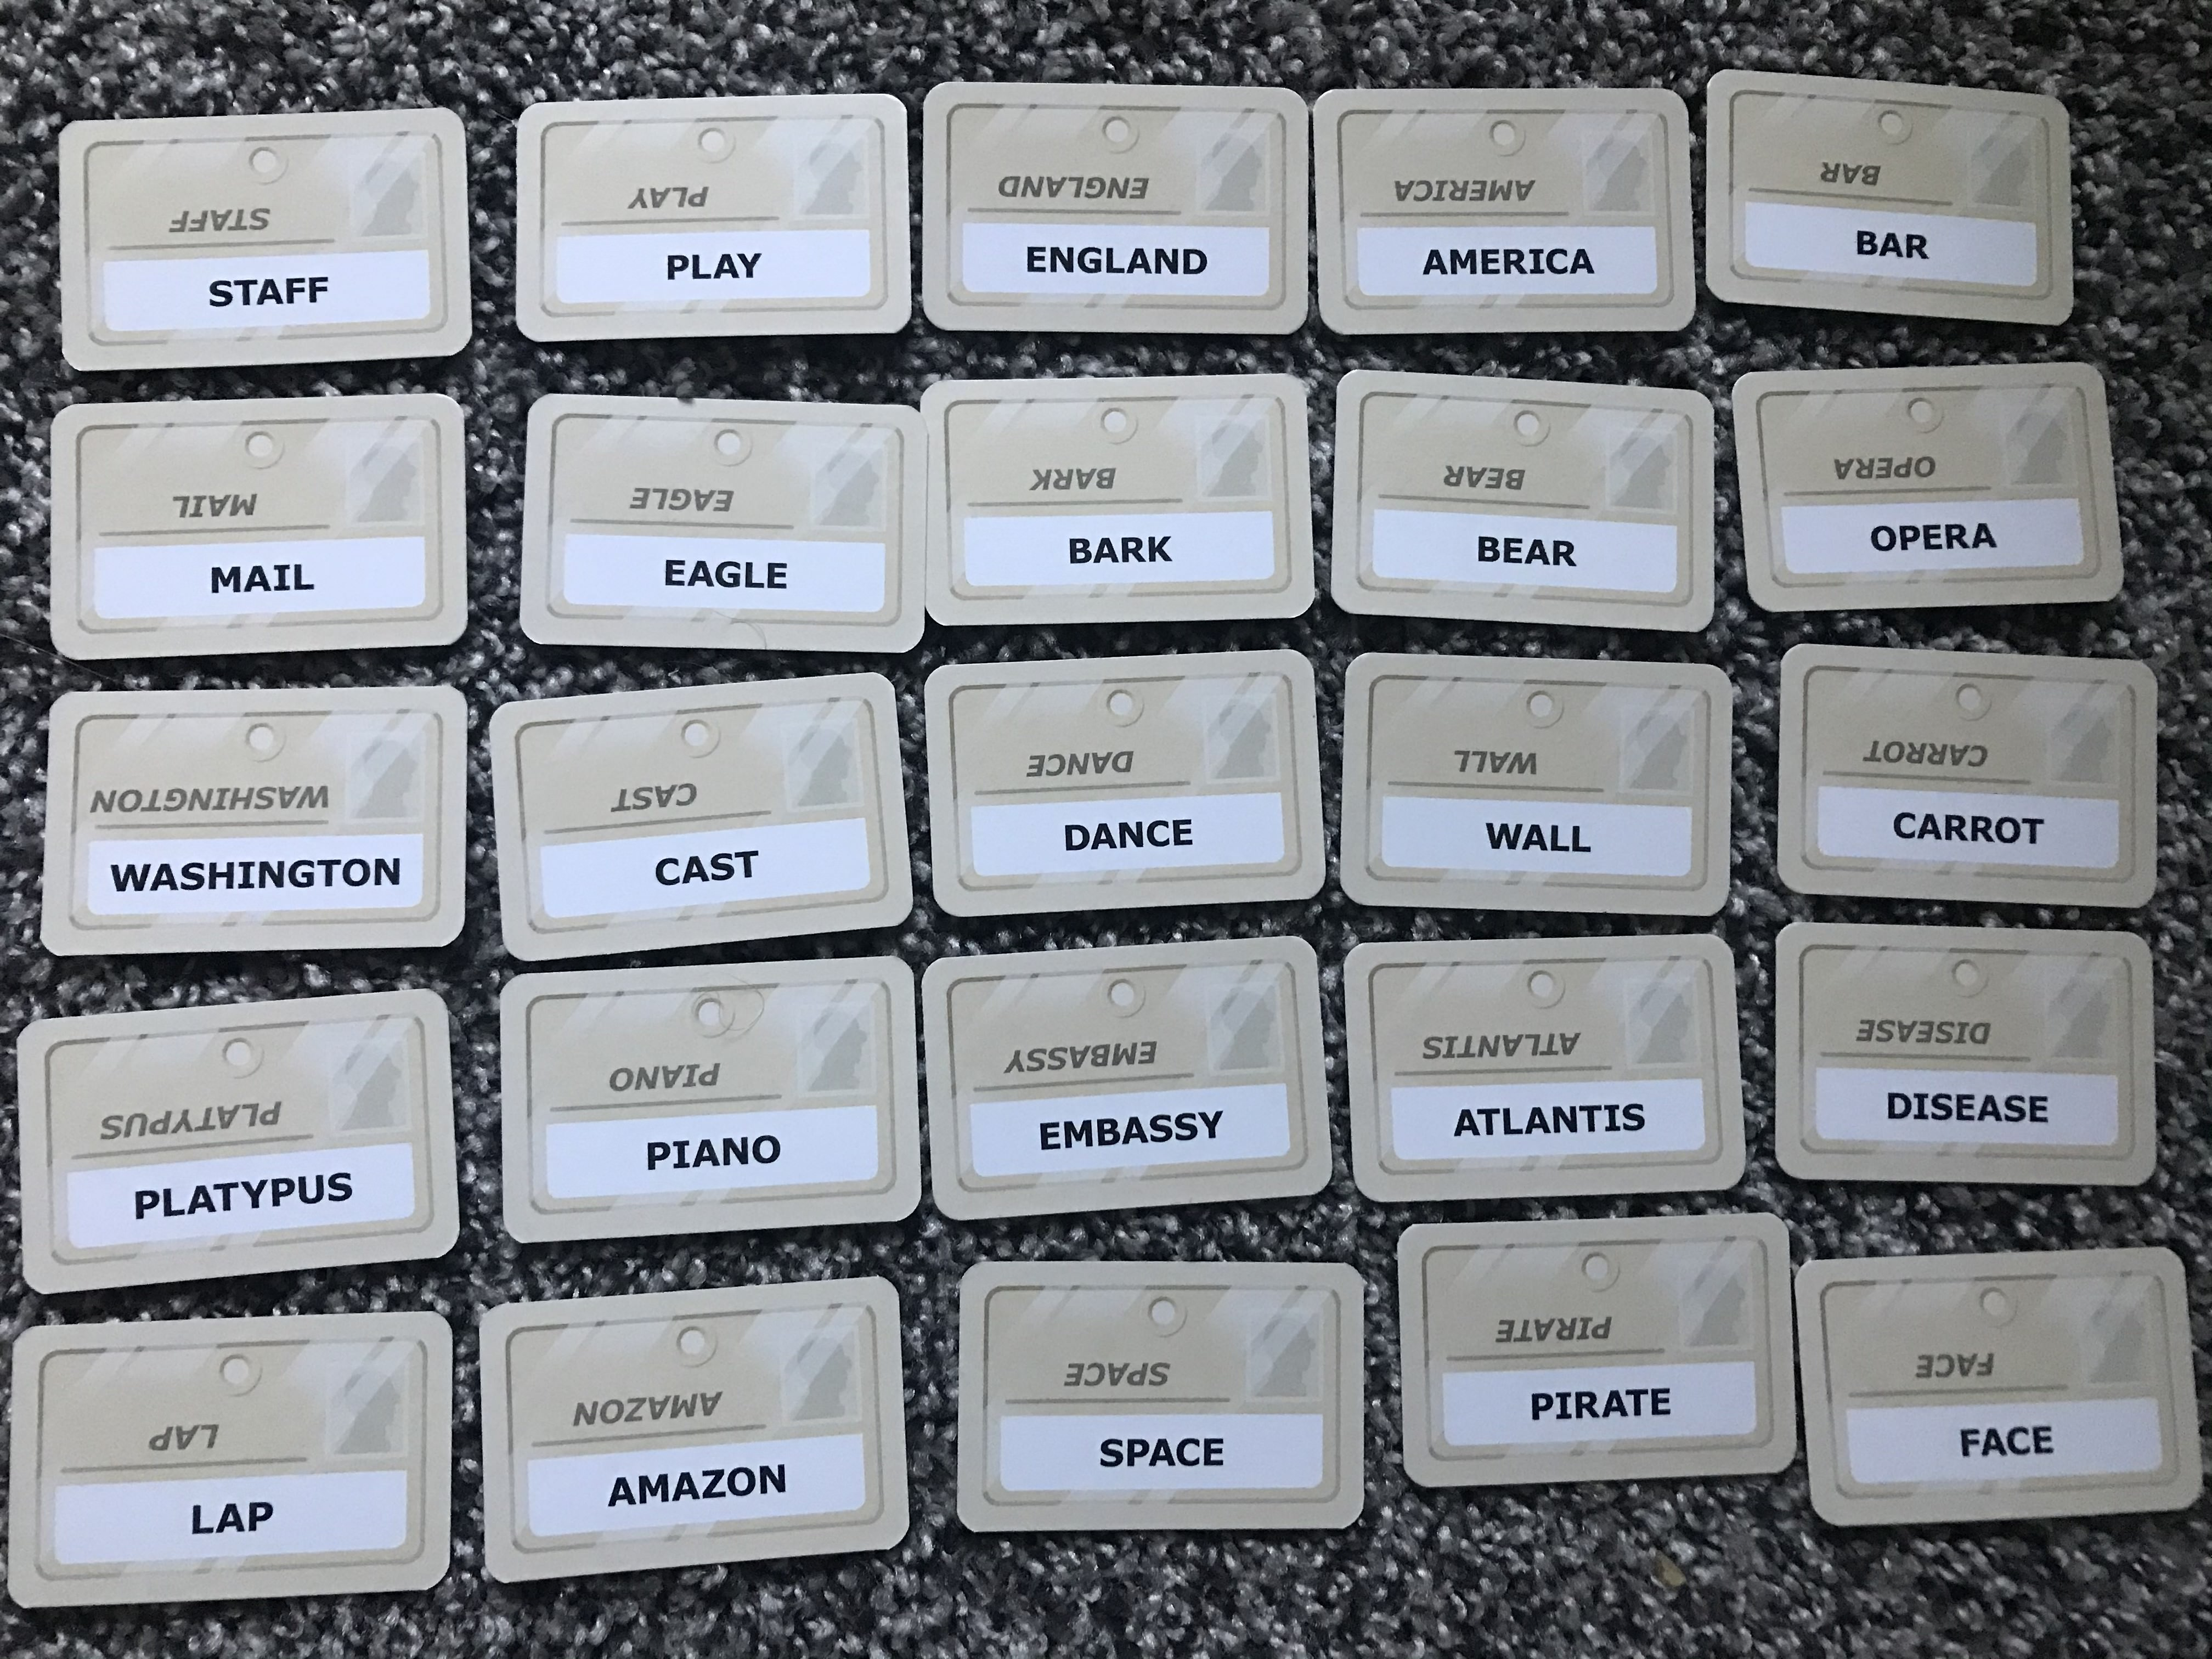A: (185, 1178, 216, 1220), (1453, 1103, 1482, 1147), (1146, 1432, 1176, 1474), (1089, 817, 1118, 857), (606, 1471, 636, 1511), (1916, 807, 1944, 849), (1977, 1089, 2005, 1131), (218, 1499, 246, 1541), (1601, 1382, 1629, 1424), (671, 1467, 700, 1506), (681, 850, 709, 890), (1521, 819, 1548, 859), (691, 1133, 719, 1173), (1979, 1422, 2006, 1462), (1092, 533, 1122, 570), (152, 859, 179, 897), (711, 251, 742, 284), (1420, 244, 1447, 281), (1878, 228, 1905, 265), (1522, 535, 1550, 572), (1972, 519, 2000, 556), (1120, 1112, 1148, 1148), (1125, 244, 1153, 279), (244, 559, 272, 594), (688, 556, 716, 591), (256, 275, 284, 308), (1571, 244, 1594, 279)
